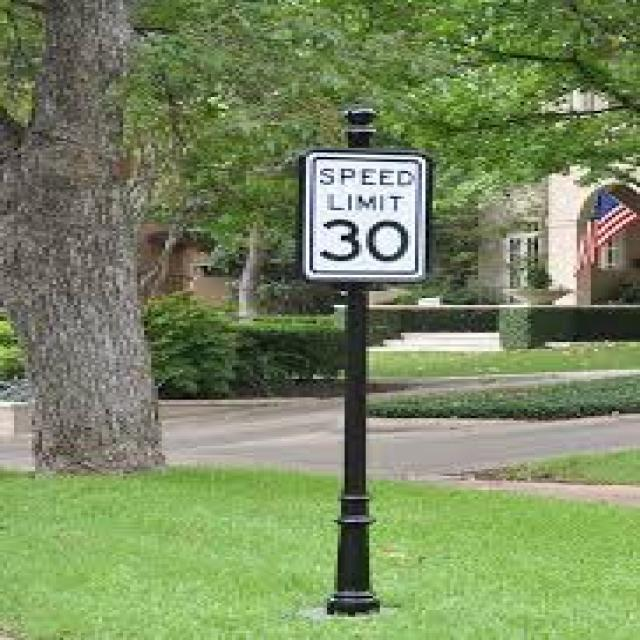speedLimit30: (304, 146, 424, 275)
